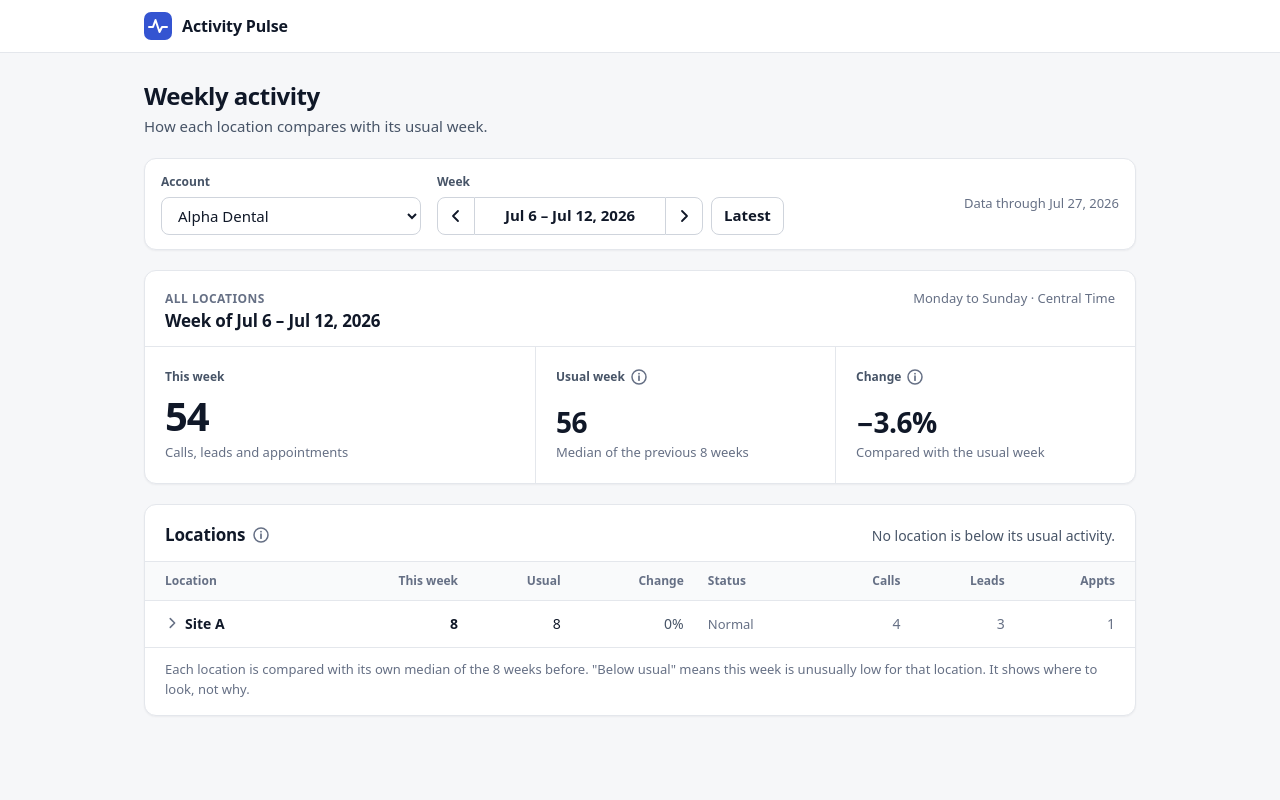
it: week navigation › works with a bookmarked date in the middle of a week
Check: the heading "Week of Jul 6 – Jul 12, 2026" is shown, box [165,310,380,332]
Click the button named "Next week" at [684, 216], box [665,196,703,234]
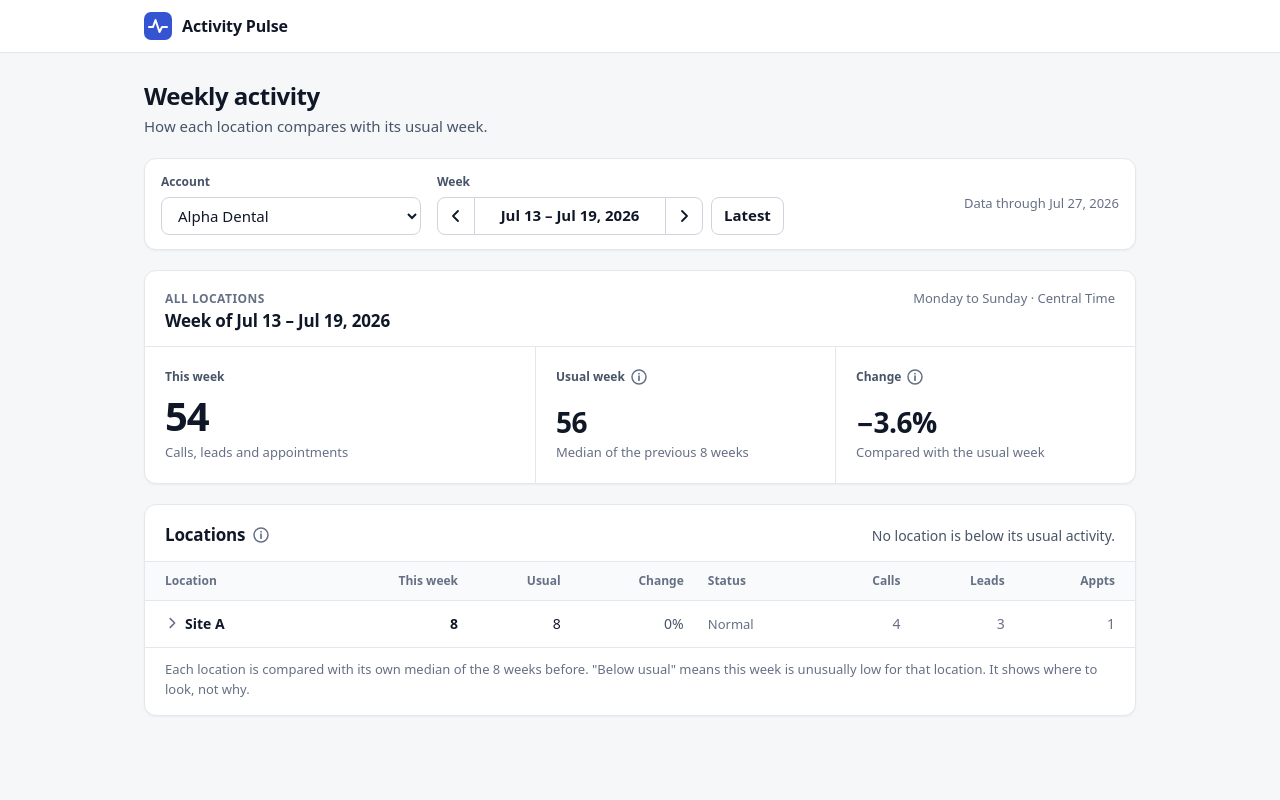
Check: the heading "Week of Jul 13 – Jul 19, 2026" is shown, box [165,310,390,332]
